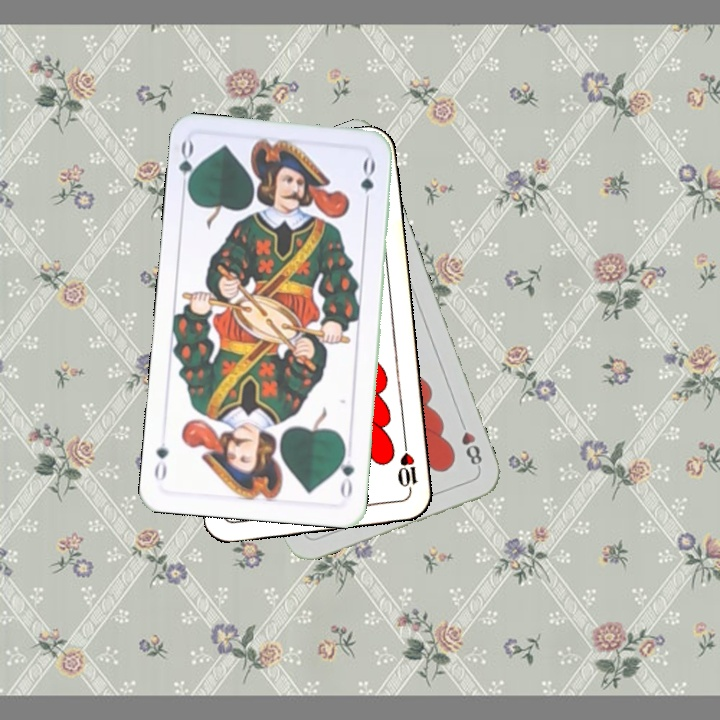GO: (174, 137, 201, 197), (334, 442, 357, 501)
H10: (394, 437, 420, 496)
H8: (455, 415, 485, 472)
